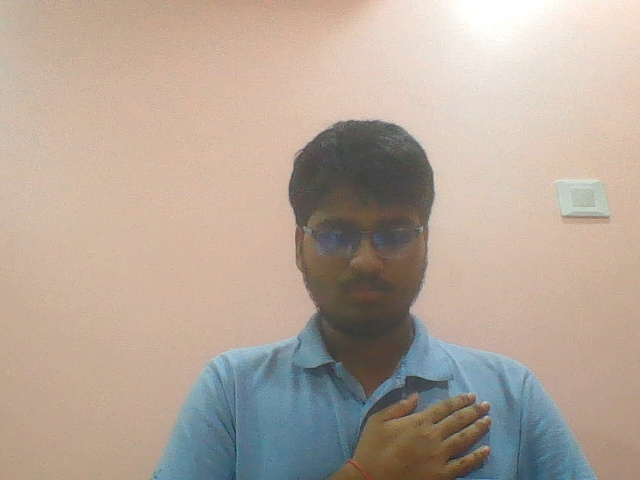please: (331, 387, 506, 480)
